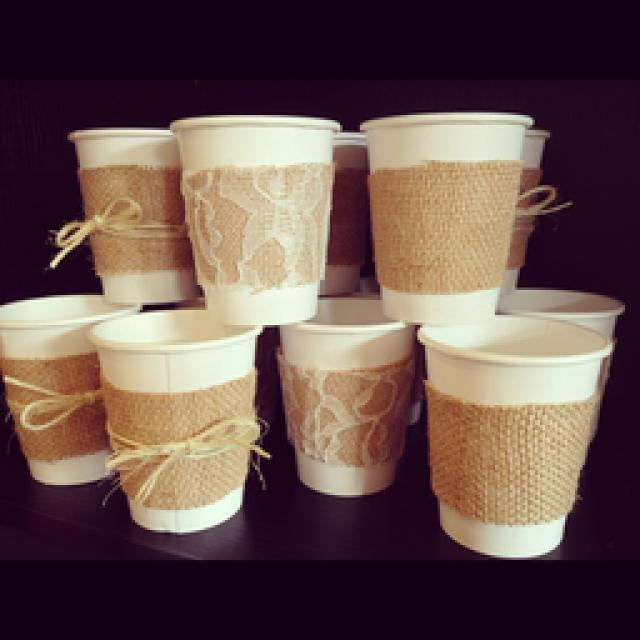paper_cups: (414, 314, 615, 556), (89, 302, 267, 531), (357, 112, 530, 331), (172, 111, 338, 328), (275, 294, 419, 494), (0, 288, 138, 488), (64, 124, 200, 307)
